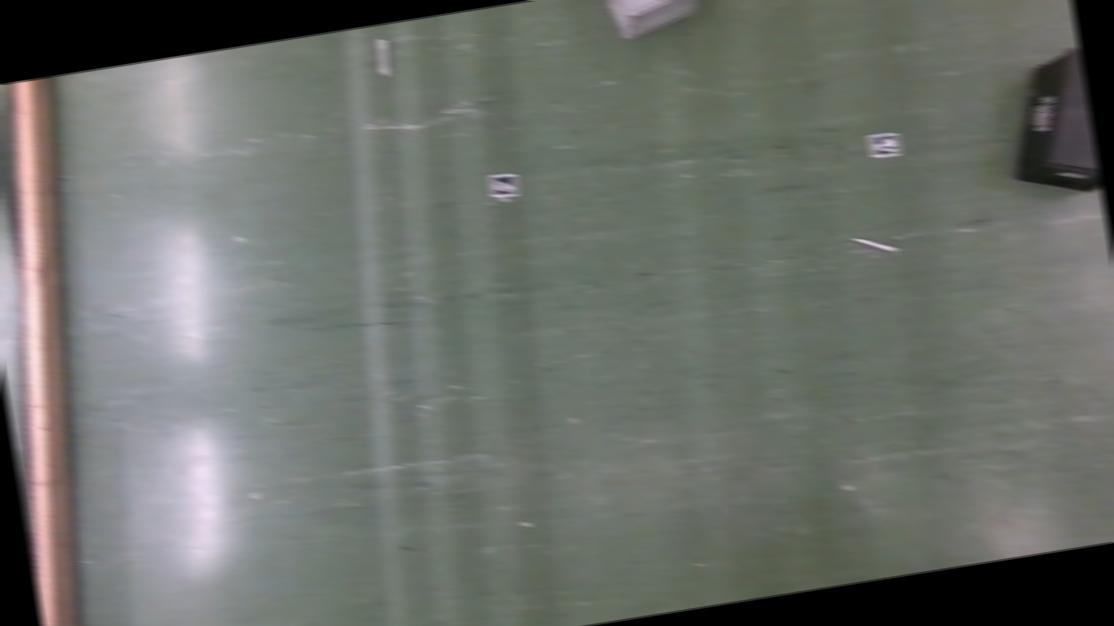probes: (853, 233, 896, 258), (373, 39, 394, 78)
rako: (998, 48, 1104, 205), (596, 0, 713, 43)
